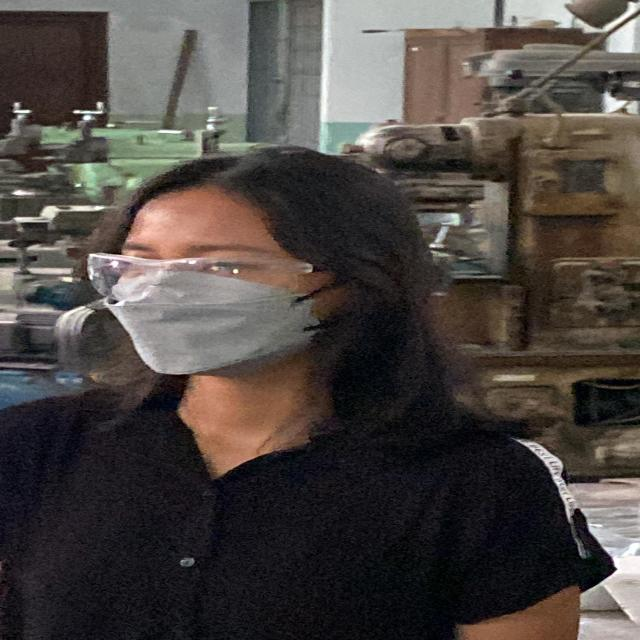face_mask: (78, 242, 338, 378)
glasses: (74, 248, 340, 300)
head_nohelmet: (99, 144, 386, 231)
person: (1, 138, 574, 640)
